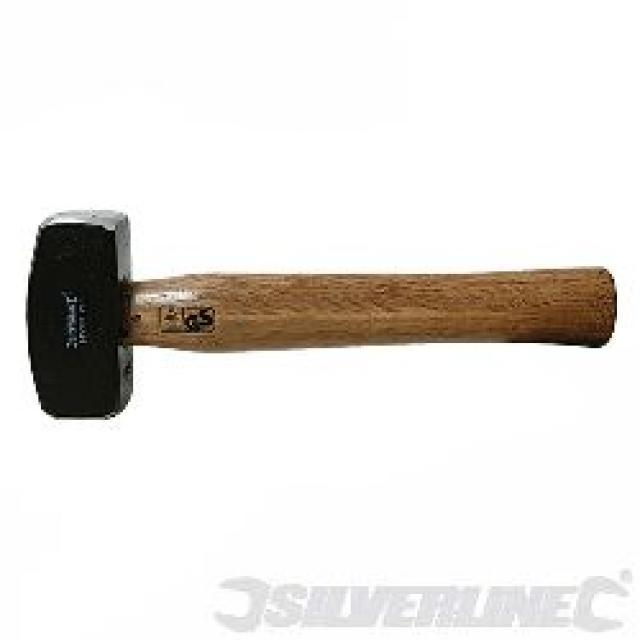hammer: (11, 192, 634, 423)
